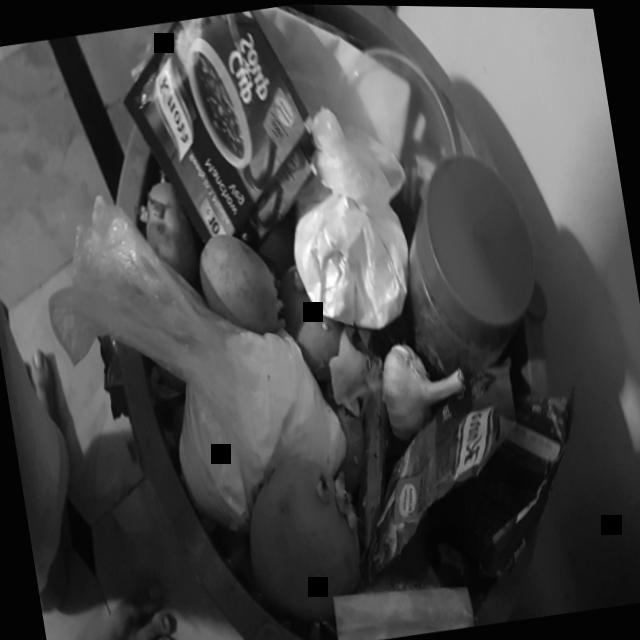potato: (235, 448, 388, 628), (176, 226, 298, 349), (126, 163, 207, 277)
